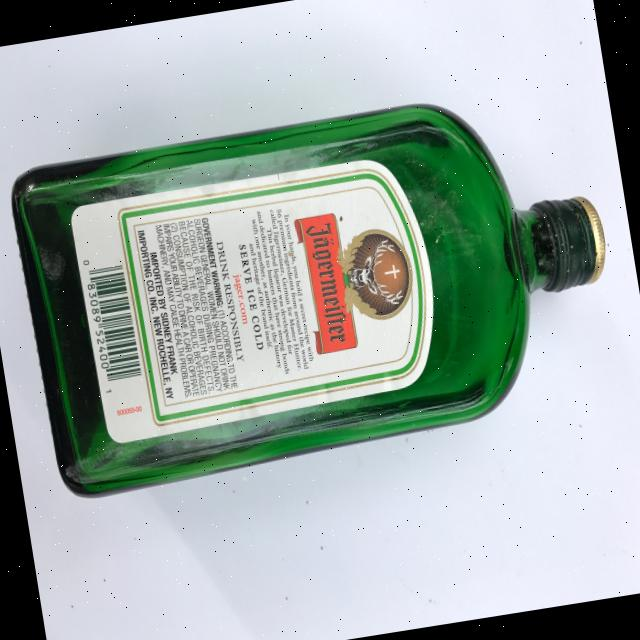glass: (6, 76, 632, 502)
